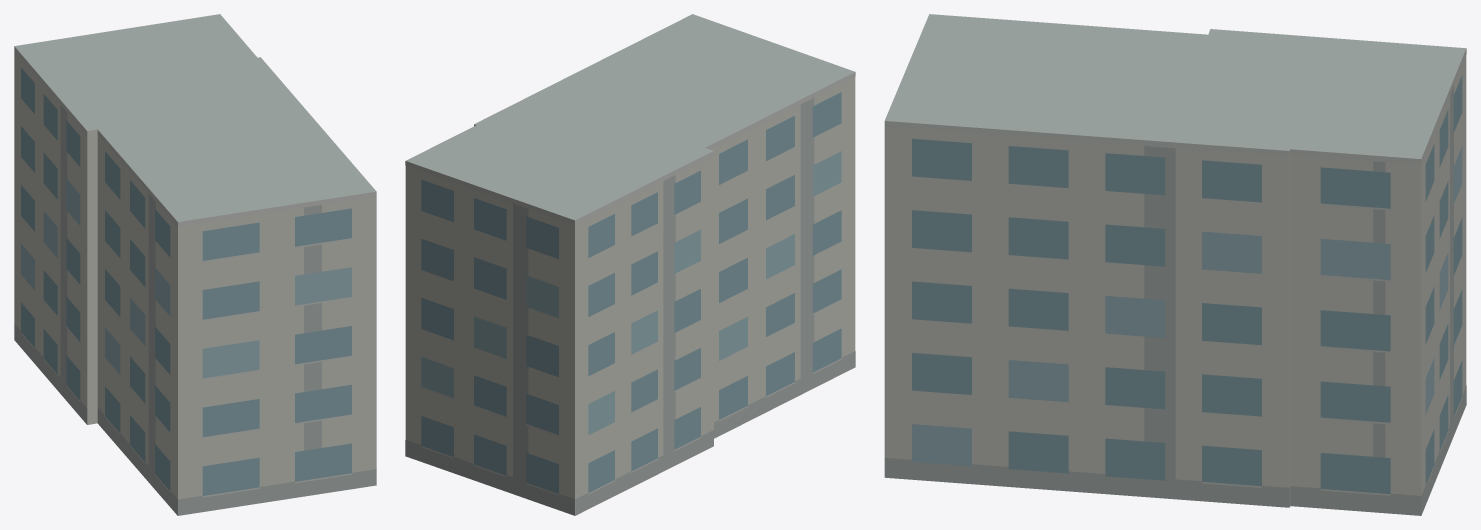
Rendered from survey-upis-32479620.glb.
3 renders of one model, left to right at view 1: azimuth 30°, elevation 25°; view 2: azimuth 150°, elevation 25°; view 3: azimuth 270°, elevation 25°, orthographic. The views are drawn at different scales.
Visible parts, largest first — view 1: survey-upis-32479620.tmp; view 2: survey-upis-32479620.tmp; view 3: survey-upis-32479620.tmp.
Boxes of the visible parts, x1,y1,x2,y2 form: survey-upis-32479620.tmp: (14,14,376,515); survey-upis-32479620.tmp: (405,14,855,515); survey-upis-32479620.tmp: (884,14,1466,515).
Bounding box in the file's own units: 12.97 × 14.85 × 21.96.
